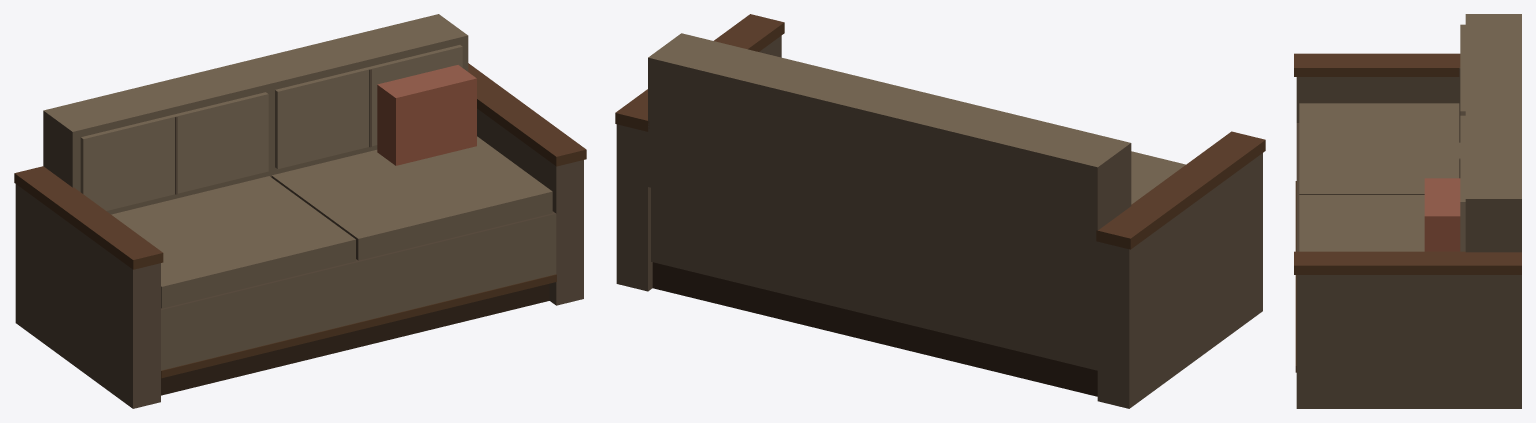
File: sofa.glb
3 renders of one model, left to right at view 1: azimuth 30°, elevation 25°; view 2: azimuth 150°, elevation 25°; view 3: azimuth 270°, elevation 25°, orthographic. The views are drawn at different scales.
Parts seen in each view (by area): view 1: sofa; view 2: sofa; view 3: sofa.
Part boxes in pixels (left/top/right/bottom): sofa: left=14, top=14, right=586, bottom=408; sofa: left=615, top=14, right=1265, bottom=408; sofa: left=1294, top=14, right=1521, bottom=408.
Size of the model in its own units: 1.96 by 0.8499 by 0.8899.
